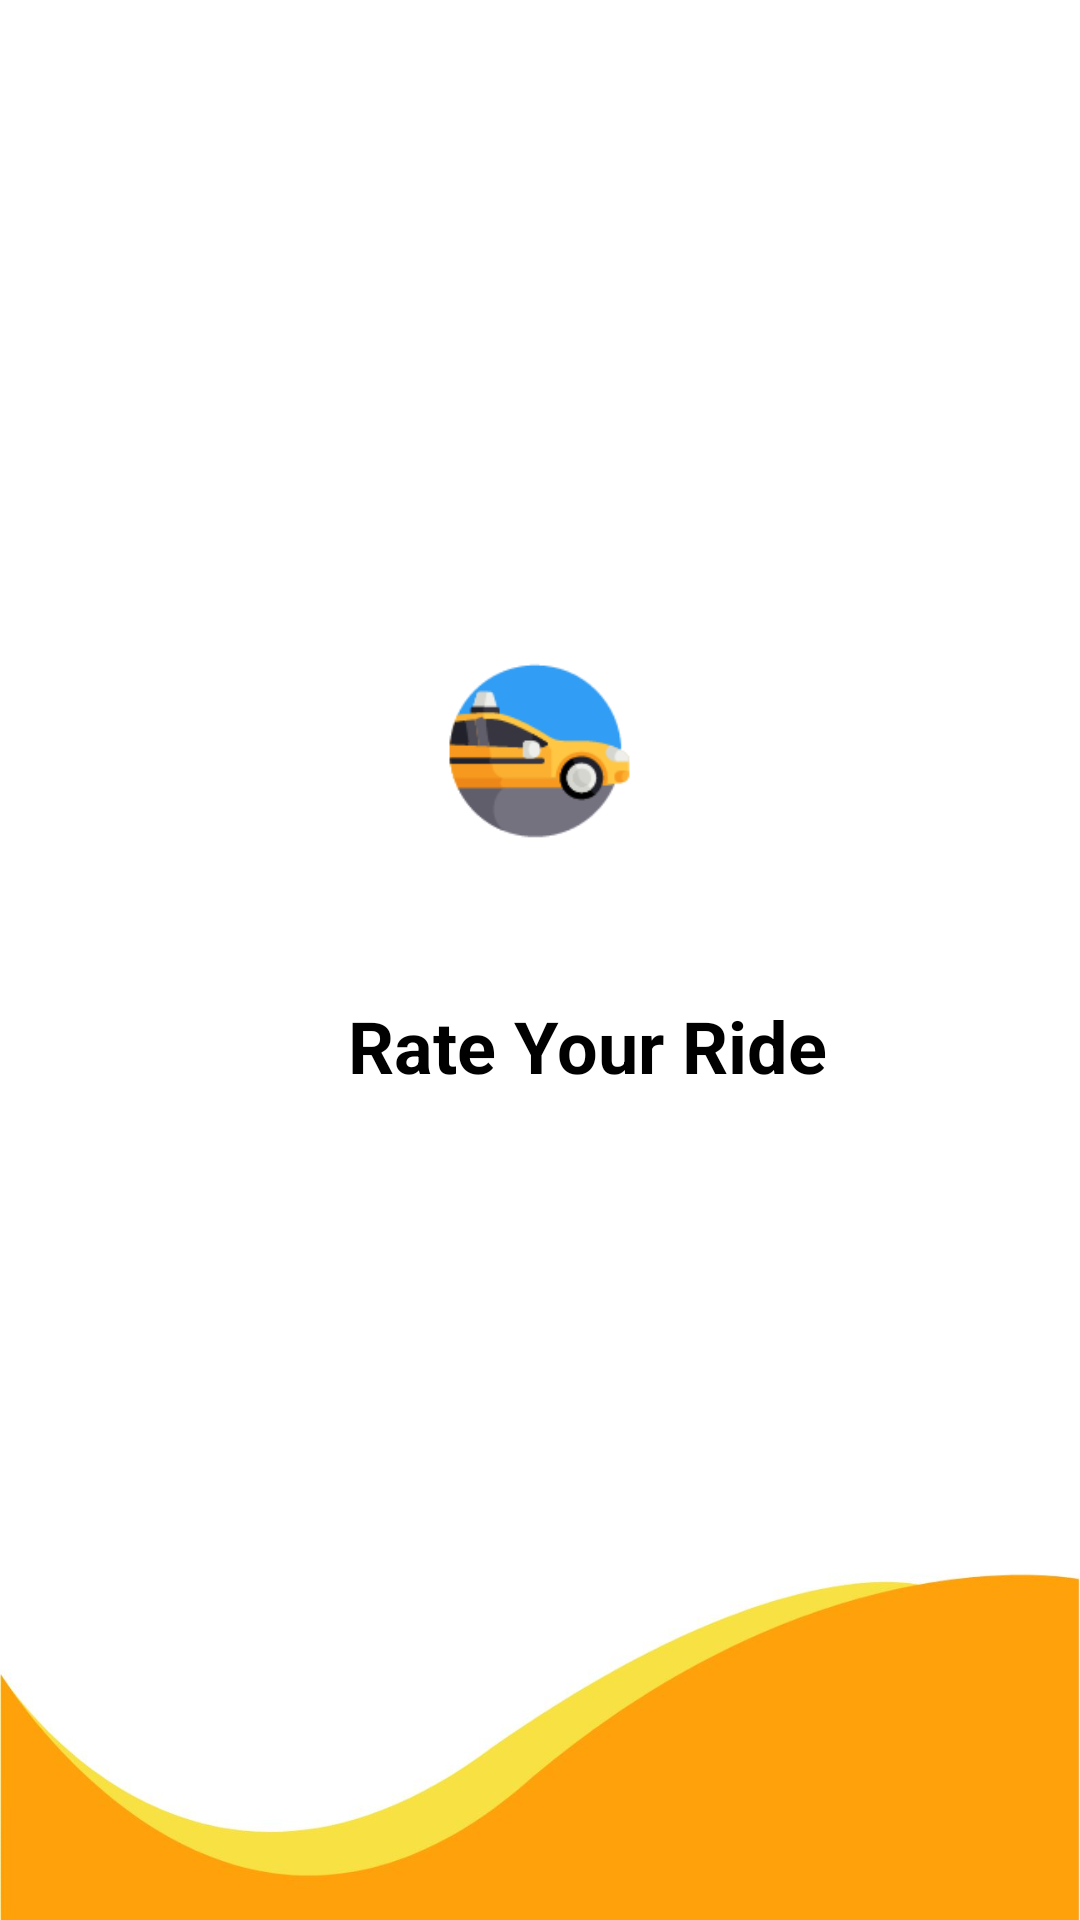

Screen size 1080 × 1920. Icon name, then its box in pixels as detection(x1, y1, x2, y2):
ridezycar: detection(449, 664, 630, 838)
